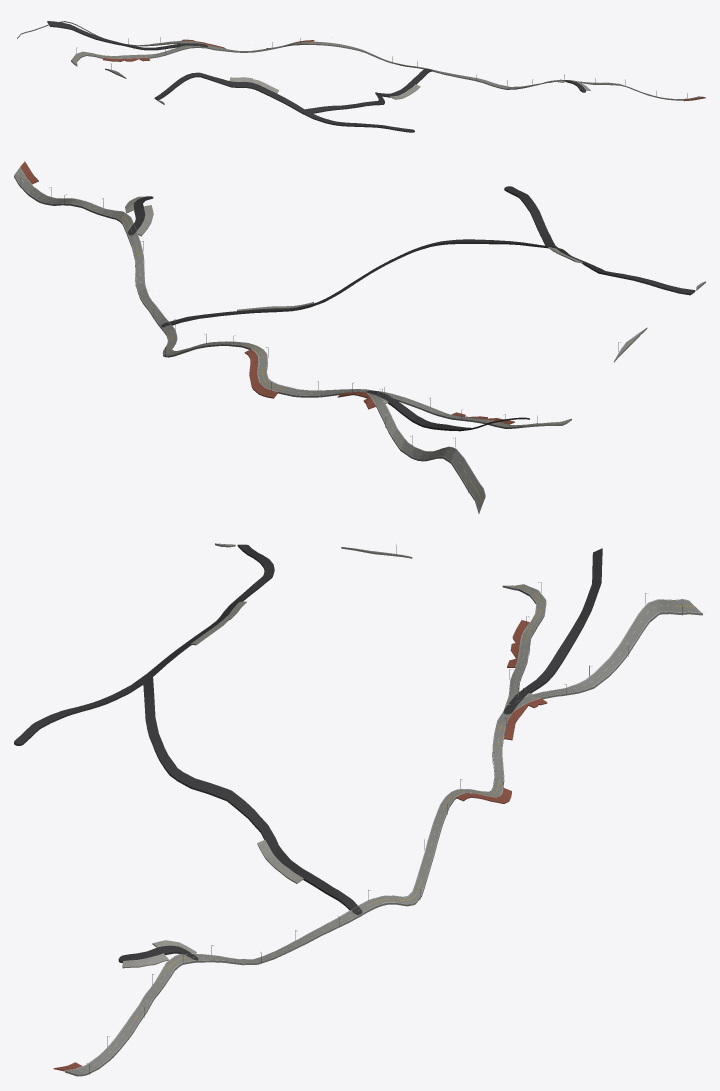
3 views of the same model, one above another, from view 1: azimuth 30°, elevation 25°; view 2: azimuth 150°, elevation 25°; view 3: azimuth 270°, elevation 25° (orthographic). The views are drawn at different scales.
Bounding box in the file's own units: 589 × 106 × 433.
